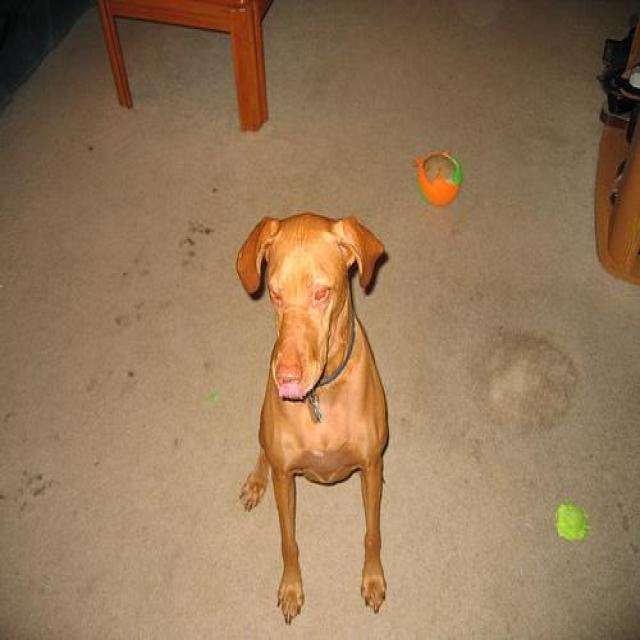vizsla: (234, 215, 390, 626)
